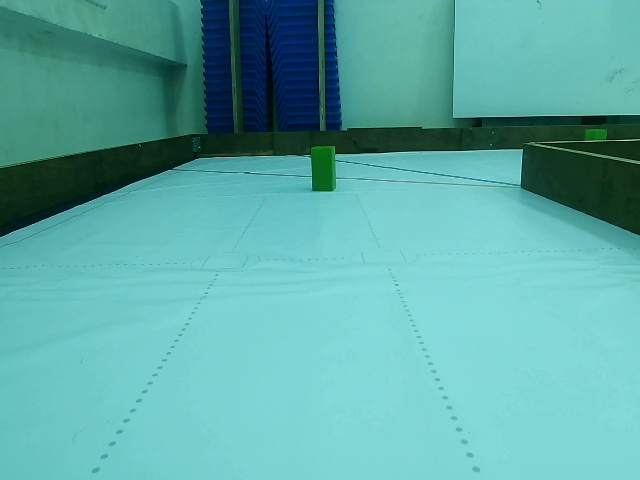green: (311, 146, 337, 190)
